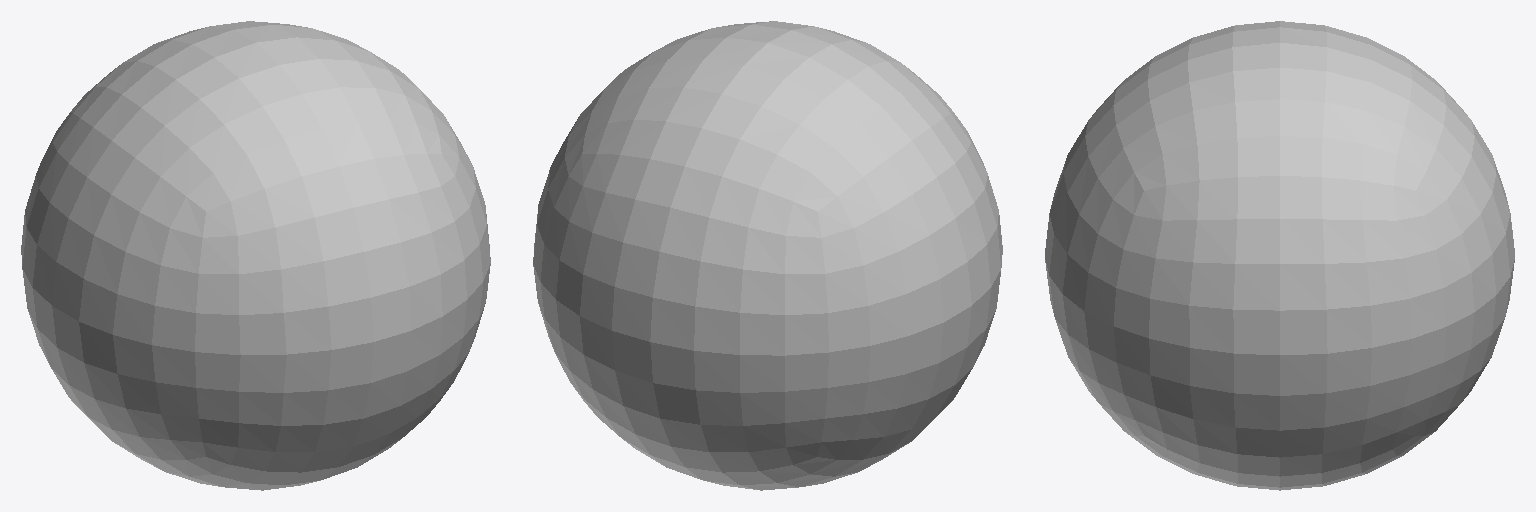
Rendered from Venus.obj.
The picture shows the model from 3 angles: view 1: azimuth 30°, elevation 25°; view 2: azimuth 150°, elevation 25°; view 3: azimuth 270°, elevation 25°; orthographic projection.
Visible parts, largest first — view 1: Sphere; view 2: Sphere; view 3: Sphere.
Boxes of the visible parts, <box> form: Sphere: <box>21,21,490,490</box>; Sphere: <box>533,21,1002,490</box>; Sphere: <box>1045,21,1514,490</box>.
Bounding box in the file's own units: 0.9 × 0.9 × 0.9.